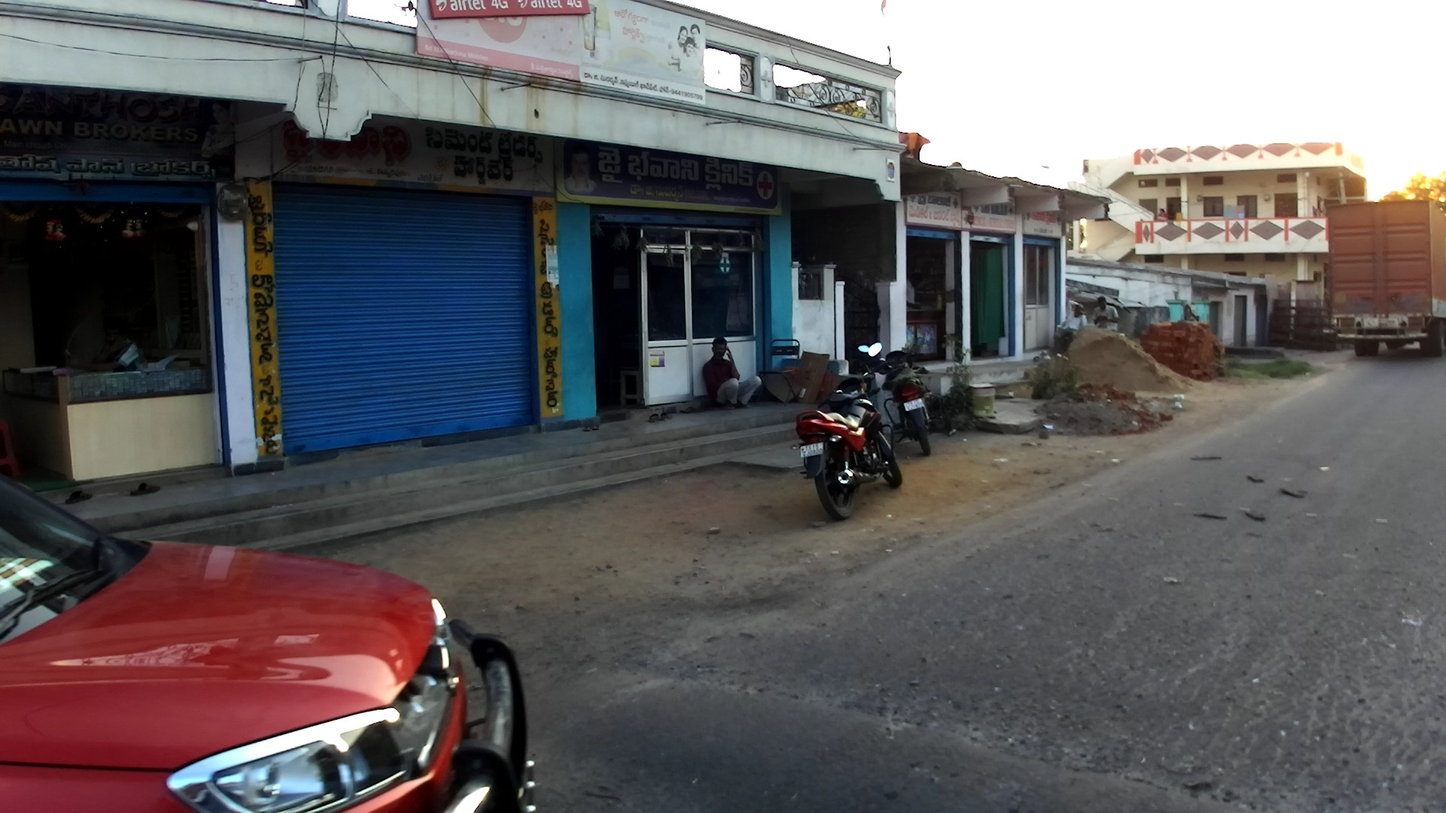car: (1, 477, 538, 813)
motorcycle: (789, 341, 903, 520), (856, 343, 946, 457)
person: (64, 318, 143, 376), (702, 336, 762, 410), (1093, 297, 1121, 333), (1062, 301, 1087, 333), (1157, 209, 1169, 223)
truck: (1328, 198, 1446, 359)
